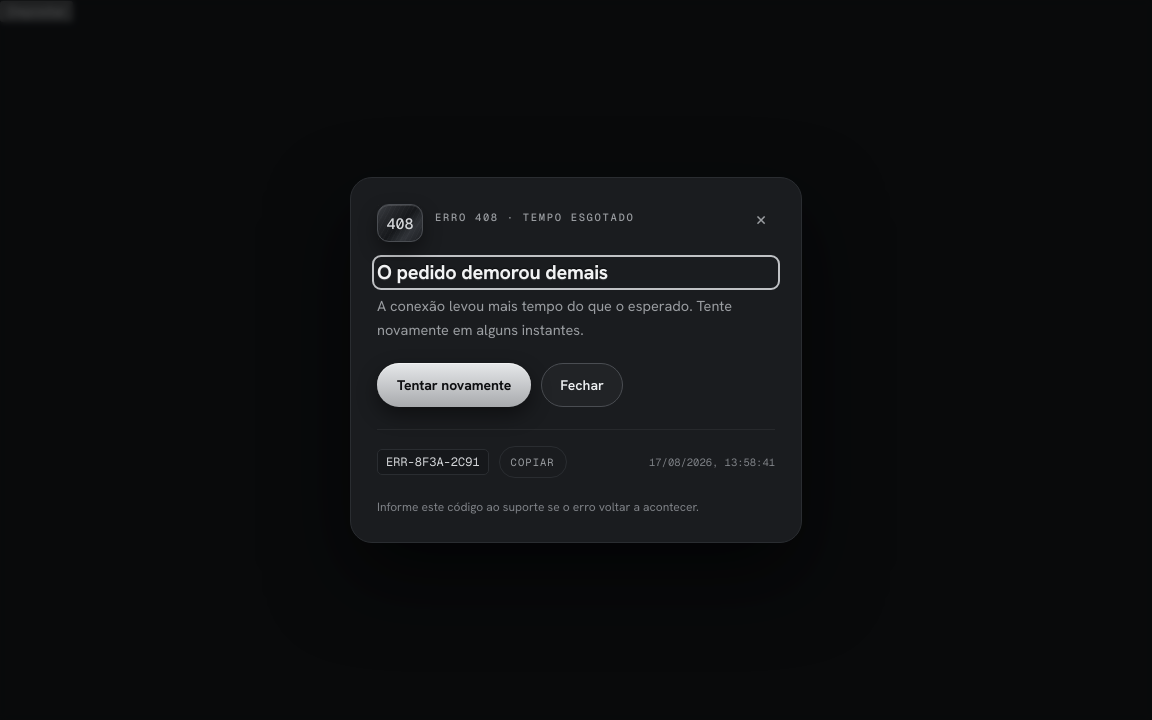
Scenario: ErrorDialogProvider › closes the dialog and clears the store when the user dismisses it
Click the button "Fechar": click(582, 385) [541,363,623,407]
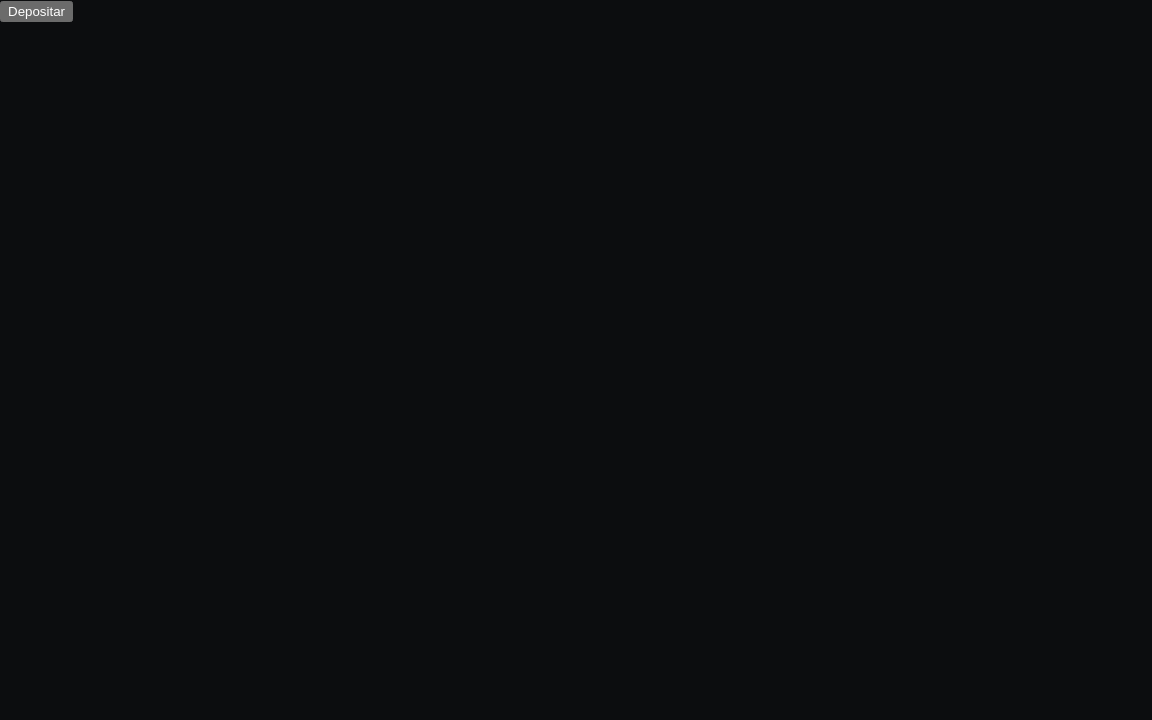
Now the dialog is gone
